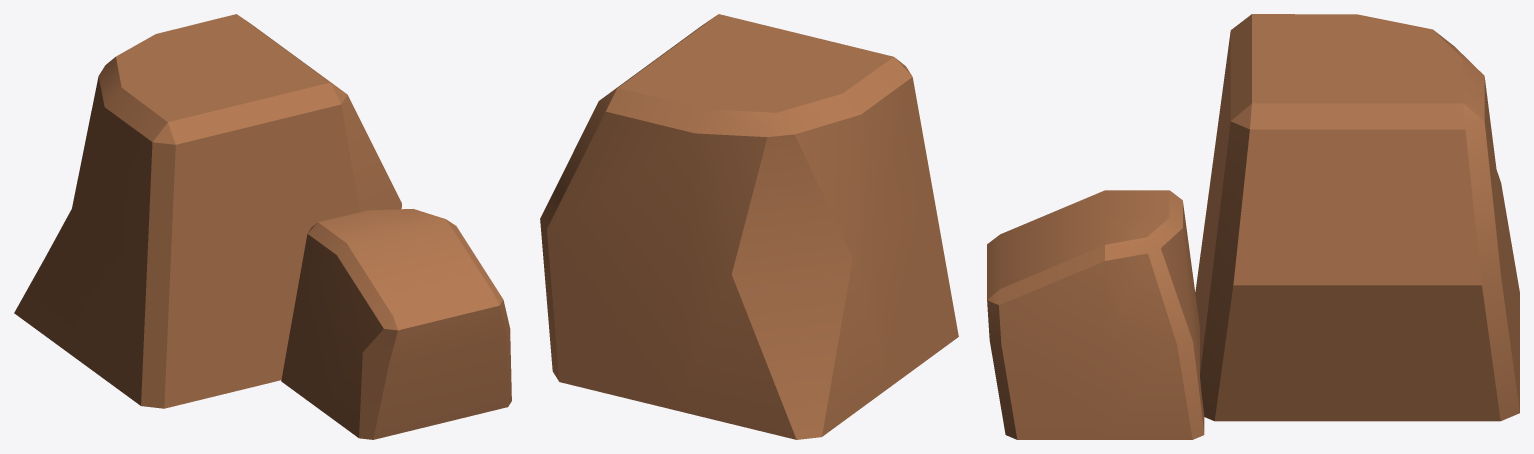
The picture shows the model from 3 angles, left to right: view 1: azimuth 30°, elevation 25°; view 2: azimuth 150°, elevation 25°; view 3: azimuth 270°, elevation 25°; orthographic projection. The views are drawn at different scales.
Parts seen in each view (by area): view 1: Default; view 2: Default; view 3: Default.
Boxes of the visible parts, bbox=[...] form: Default: bbox=[14, 14, 511, 439]; Default: bbox=[540, 14, 958, 439]; Default: bbox=[987, 14, 1519, 439].
Size of the model in its own units: 28.96 by 25.5 by 41.87.
